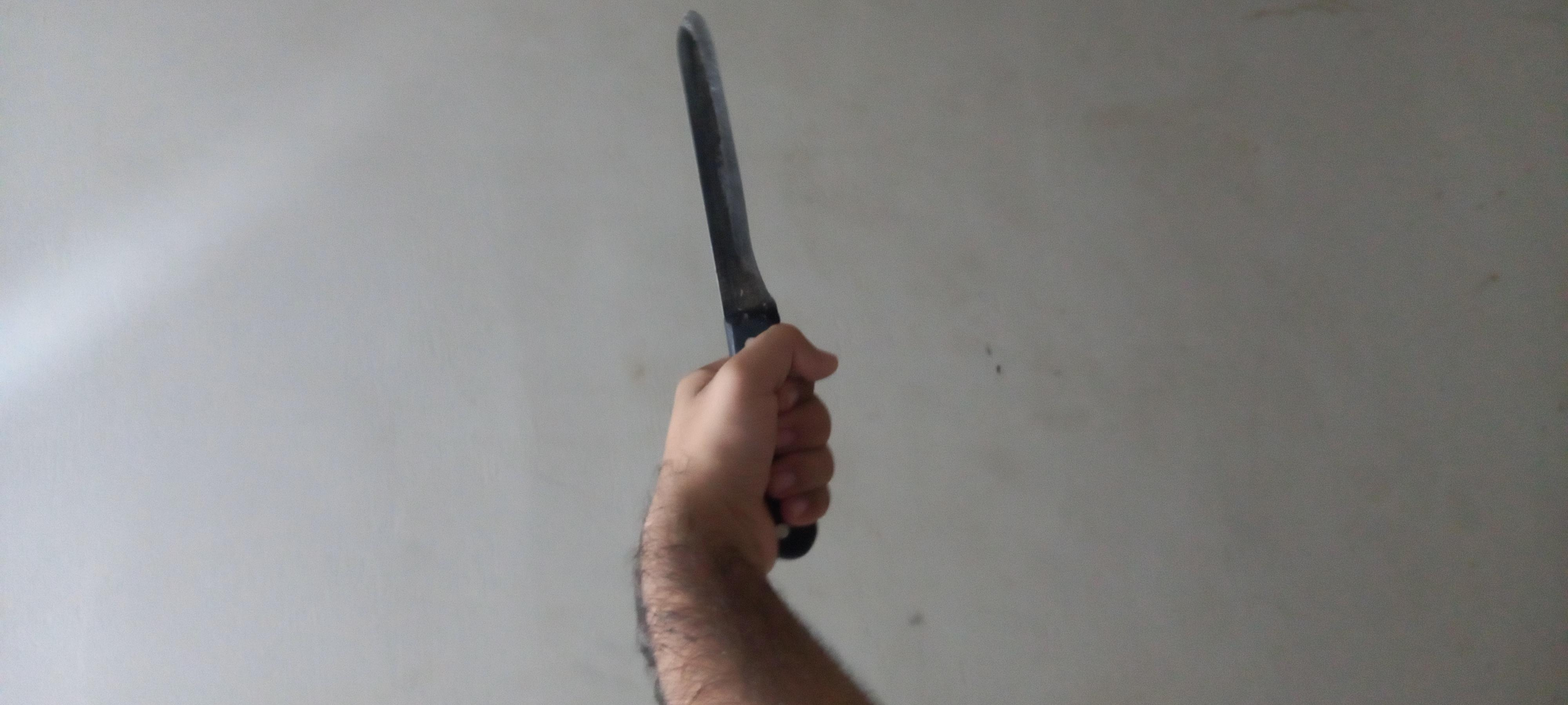knives: (328, 292, 1544, 377)
